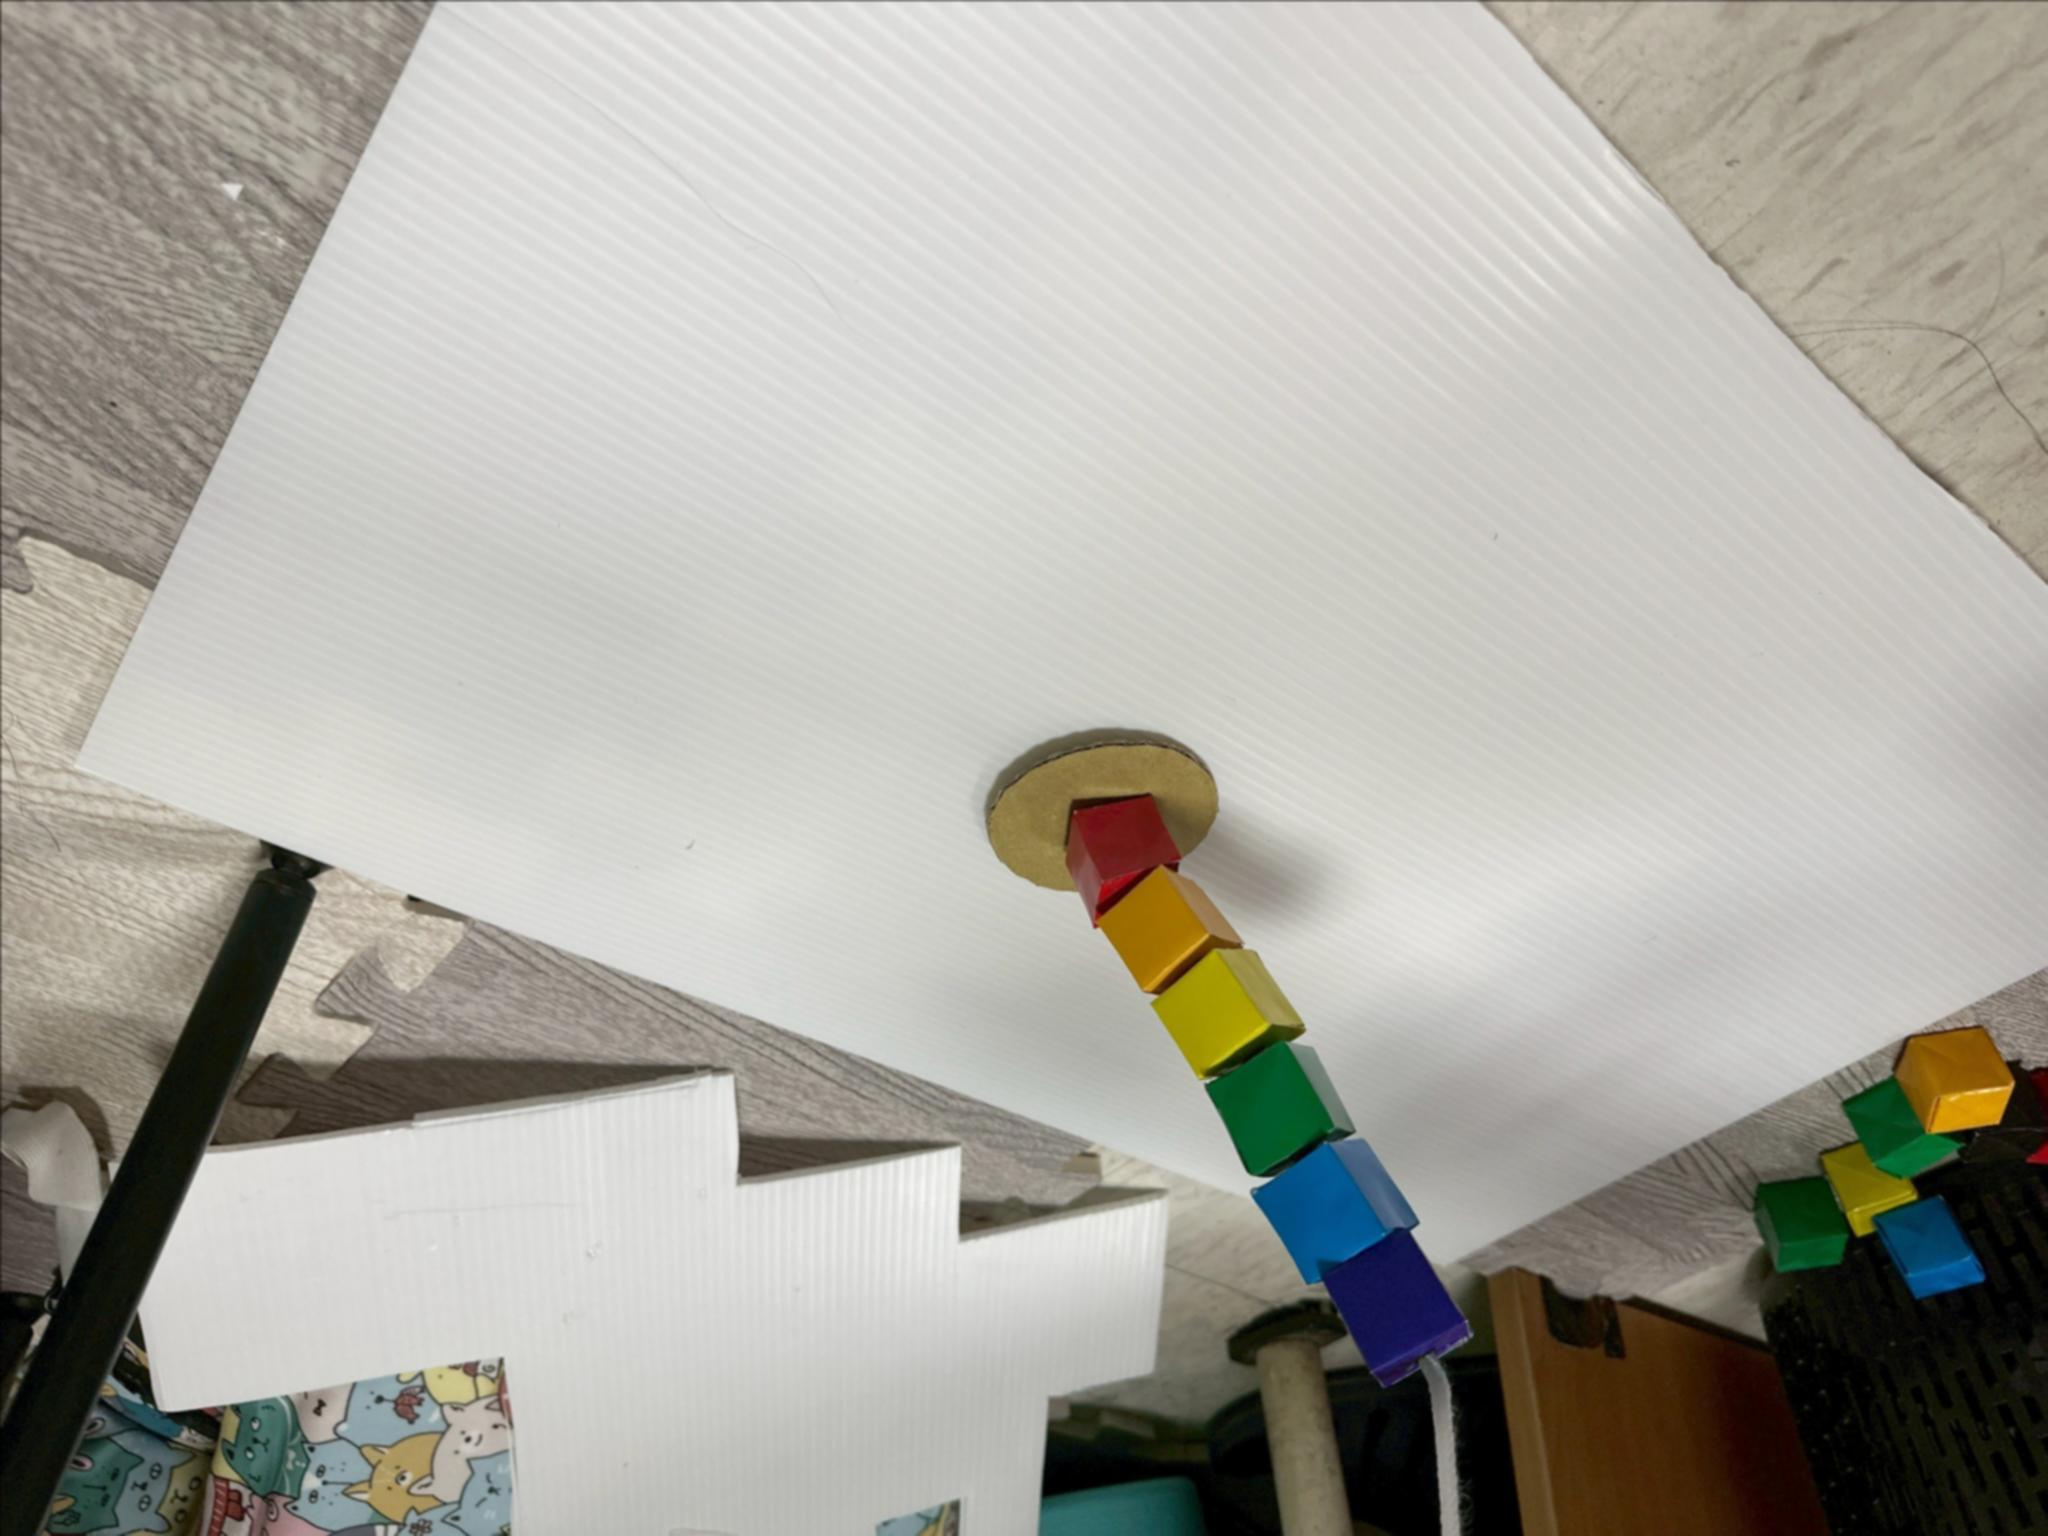base: (987, 741, 1216, 887)
cube: (1251, 1134, 1417, 1283), (1322, 1228, 1467, 1386), (1151, 947, 1305, 1079), (1205, 1042, 1353, 1175), (1097, 866, 1242, 992), (1066, 794, 1180, 923), (1895, 1028, 2013, 1131), (1843, 1075, 1963, 1176), (1875, 1196, 1983, 1297), (1753, 1178, 1850, 1271), (1821, 1144, 1916, 1236)
